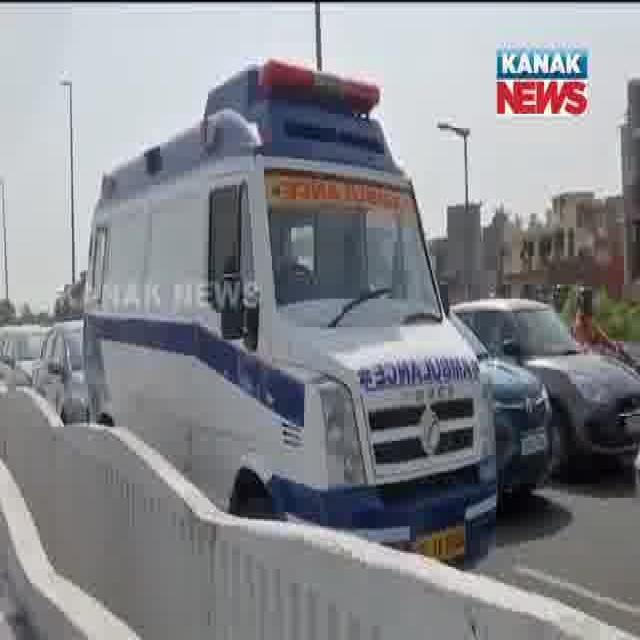ambulance: (68, 30, 498, 576)
